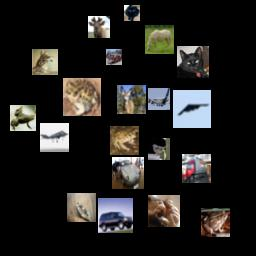airplane: (173, 90, 211, 128), (40, 123, 69, 152), (148, 88, 170, 110)
automobile: (98, 198, 133, 233), (112, 157, 144, 189)
bird: (148, 138, 170, 160)
cat: (148, 195, 180, 227), (177, 46, 209, 78), (32, 49, 58, 75), (124, 5, 140, 21)
deer: (117, 85, 146, 114), (88, 16, 110, 38)
frog: (63, 78, 101, 116), (201, 208, 230, 237), (110, 126, 139, 155), (10, 105, 36, 131)
ship: (67, 193, 96, 222)
truck: (182, 154, 211, 183), (106, 49, 122, 65)
